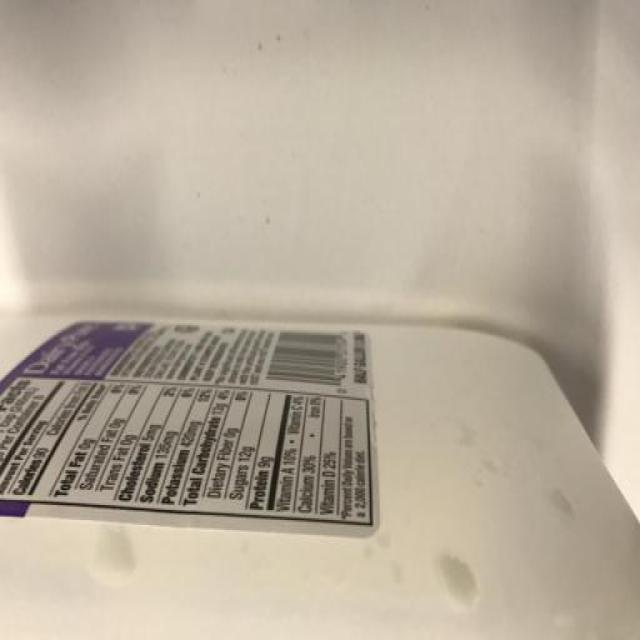Plastic: (0, 303, 640, 640)
